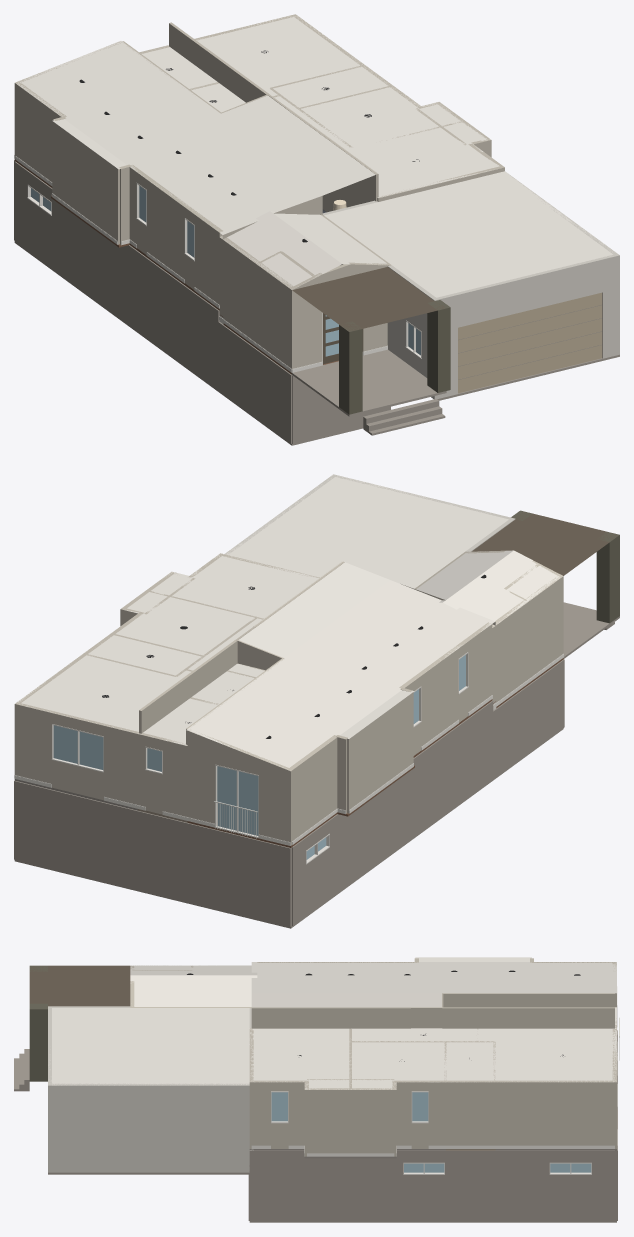
File: seville-470a.glb
3 renders of one model, top to bottom at view 1: azimuth 30°, elevation 25°; view 2: azimuth 150°, elevation 25°; view 3: azimuth 270°, elevation 25°, orthographic. The views are drawn at different scales.
Parts seen in each view (by area): view 1: ceiling · Ceiling white, wall · Cloverdale 0231 Desert Mirage, wall · Unfinished concrete, wall · Garage drywall, fixture · Wayne Dalton Sandstone overhead door, floor · Unfinished concrete (×2), ceiling · Mitten Terratone entry and soffit, fixture · King's Court DLX1032-6 acrylic stucco, wall · White lacquered woodwork and slab doors, glass · Window glazing, glass · White lacquered woodwork and slab doors, floor · Torlys Classic Plus Warm Brown Oak (+2 smaller); view 2: ceiling · Ceiling white, wall · Cloverdale 0231 Desert Mirage, wall · Unfinished concrete, glass · Window glazing, ceiling · Mitten Terratone entry and soffit, floor · Unfinished concrete (×2), fixture · King's Court DLX1032-6 acrylic stucco, wall · White lacquered woodwork and slab doors, glass · White lacquered woodwork and slab doors, wall · Garage drywall, floor · Torlys Classic Plus Warm Brown Oak, glass · White aluminum rear railing; view 3: ceiling · Ceiling white, wall · Cloverdale 0231 Desert Mirage, wall · Unfinished concrete, wall · Garage drywall, ceiling · Mitten Terratone entry and soffit, floor · Unfinished concrete (×2), glass · Window glazing (×2), fixture · King's Court DLX1032-6 acrylic stucco, wall · White lacquered woodwork and slab doors, glass · White lacquered woodwork and slab doors (×2), floor · Beaulieu North American Grey.
Part boxes in pixels (left/top/right/bottom): ceiling · Ceiling white: left=15, top=15, right=615, bottom=297; wall · Cloverdale 0231 Desert Mirage: left=14, top=14, right=504, bottom=368; wall · Unfinished concrete: left=14, top=160, right=390, bottom=443; wall · Garage drywall: left=322, top=171, right=619, bottom=399; fixture · Wayne Dalton Sandstone overhead door: left=458, top=292, right=602, bottom=393; floor · Unfinished concrete (×2): left=14, top=242, right=619, bottom=445; ceiling · Mitten Terratone entry and soffit: left=292, top=267, right=444, bottom=331; fixture · King's Court DLX1032-6 acrylic stucco: left=339, top=300, right=450, bottom=414; wall · White lacquered woodwork and slab doors: left=14, top=155, right=387, bottom=372; glass · Window glazing: left=139, top=186, right=420, bottom=356; glass · White lacquered woodwork and slab doors: left=136, top=183, right=421, bottom=361; floor · Torlys Classic Plus Warm Brown Oak: left=14, top=159, right=338, bottom=374; ceiling · Ceiling white: left=15, top=475, right=560, bottom=768; wall · Cloverdale 0231 Desert Mirage: left=14, top=550, right=563, bottom=845; wall · Unfinished concrete: left=14, top=659, right=564, bottom=926; glass · Window glazing: left=53, top=655, right=465, bottom=835; ceiling · Mitten Terratone entry and soffit: left=472, top=512, right=617, bottom=575; floor · Unfinished concrete (×2): left=14, top=602, right=619, bottom=928; fixture · King's Court DLX1032-6 acrylic stucco: left=511, top=510, right=619, bottom=623; wall · White lacquered woodwork and slab doors: left=14, top=653, right=563, bottom=845; glass · White lacquered woodwork and slab doors: left=51, top=652, right=468, bottom=838; wall · Garage drywall: left=225, top=474, right=515, bottom=554; floor · Torlys Classic Plus Warm Brown Oak: left=187, top=658, right=563, bottom=847; glass · White aluminum rear railing: left=213, top=801, right=257, bottom=838; ceiling · Ceiling white: left=48, top=957, right=616, bottom=1089; wall · Cloverdale 0231 Desert Mirage: left=130, top=958, right=616, bottom=1156; wall · Unfinished concrete: left=248, top=1030, right=617, bottom=1221; wall · Garage drywall: left=48, top=1006, right=253, bottom=1172; ceiling · Mitten Terratone entry and soffit: left=29, top=965, right=130, bottom=1006; floor · Unfinished concrete (×2): left=14, top=1049, right=616, bottom=1222; glass · Window glazing (×2): left=271, top=1092, right=591, bottom=1172; fixture · King's Court DLX1032-6 acrylic stucco: left=29, top=965, right=47, bottom=1081; wall · White lacquered woodwork and slab doors: left=251, top=1108, right=617, bottom=1156; glass · White lacquered woodwork and slab doors (×2): left=271, top=986, right=617, bottom=1174; floor · Beaulieu North American Grey: left=249, top=1149, right=616, bottom=1158.
Bounding box in the file's own units: 10.45 × 6.01 × 20.11.
